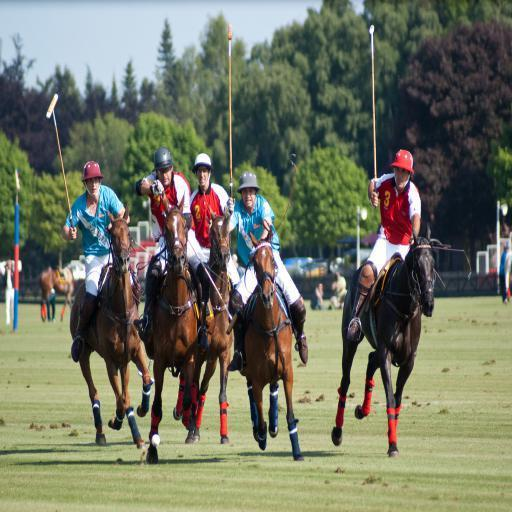horse: (331, 223, 436, 457), (69, 204, 152, 452), (142, 190, 200, 462), (242, 222, 304, 462), (172, 204, 231, 446)
